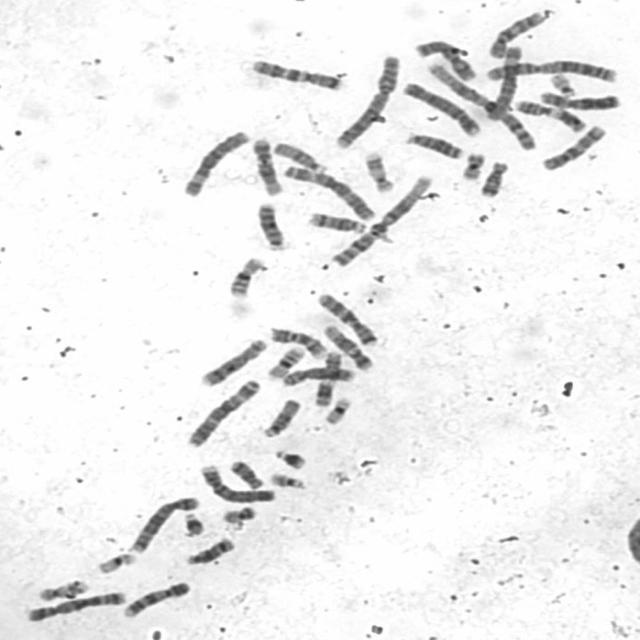A1: (421, 59, 541, 152), (326, 170, 436, 269)
A2: (330, 50, 403, 150), (482, 55, 620, 83)
A3: (280, 160, 380, 222), (183, 374, 264, 448)
B4: (400, 77, 483, 138), (196, 460, 278, 504)
B5: (124, 492, 202, 555), (22, 587, 128, 623)
C10: (536, 120, 609, 172), (483, 5, 551, 60)
C11: (512, 95, 590, 133), (311, 347, 346, 407)
C12: (319, 320, 377, 372), (249, 134, 285, 196)
C6: (178, 126, 253, 198), (480, 42, 524, 121)
C7: (314, 289, 382, 347), (248, 55, 346, 92)
C8: (195, 334, 270, 388), (277, 363, 357, 388)
C9: (119, 577, 193, 619), (266, 324, 329, 359)
D13: (402, 128, 466, 160), (253, 198, 290, 252)
D14: (180, 533, 238, 567), (302, 208, 368, 234)
D15: (269, 138, 330, 174), (258, 394, 304, 438)
E16: (224, 252, 268, 300), (263, 342, 307, 380)
E17: (360, 148, 397, 194), (33, 576, 91, 603)
E18: (476, 156, 512, 198), (225, 456, 266, 490)
F19: (92, 548, 140, 575), (320, 393, 354, 426)
F20: (457, 148, 488, 181), (218, 502, 260, 524)
G21: (270, 445, 310, 470), (179, 508, 206, 538)
G22: (265, 468, 308, 491), (546, 69, 580, 97)
X: (412, 36, 479, 81), (536, 86, 624, 112)
